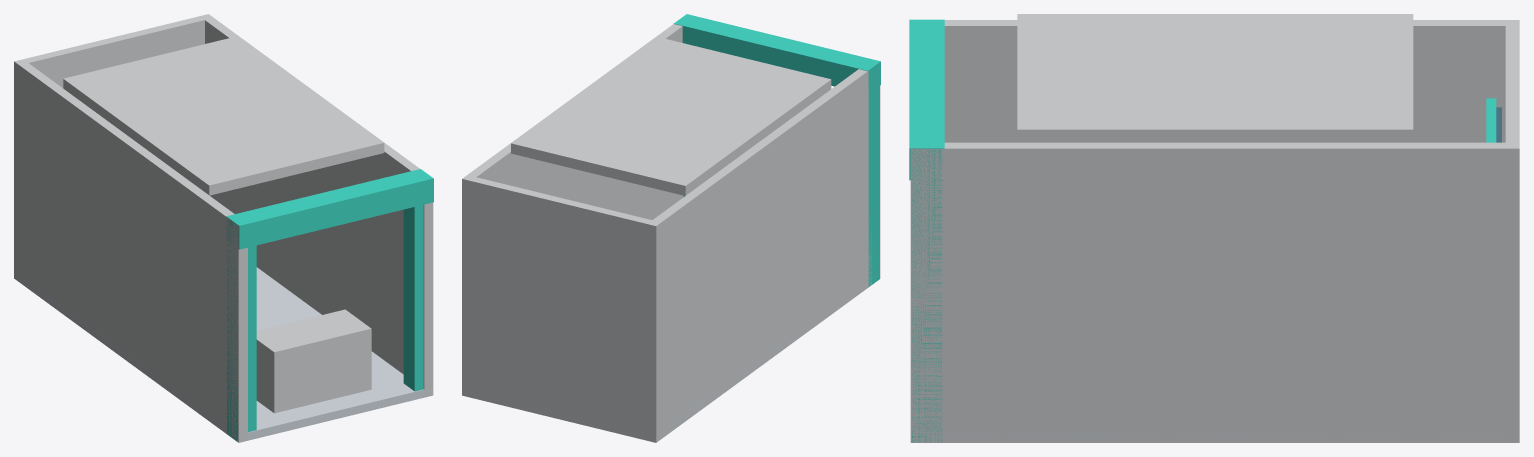
The picture shows the model from 3 angles, left to right: view 1: azimuth 30°, elevation 25°; view 2: azimuth 150°, elevation 25°; view 3: azimuth 270°, elevation 25°; orthographic projection. The views are drawn at different scales.
Parts seen in each view (by area): view 1: Exhibition Booth Concept; view 2: Exhibition Booth Concept; view 3: Exhibition Booth Concept.
Boxes of the visible parts, x1=… form: Exhibition Booth Concept: x1=14, y1=14, x2=433, y2=442; Exhibition Booth Concept: x1=462, y1=14, x2=880, y2=442; Exhibition Booth Concept: x1=909, y1=14, x2=1519, y2=442.
Bounding box in the file's own units: 3 × 3.34 × 6.02.
